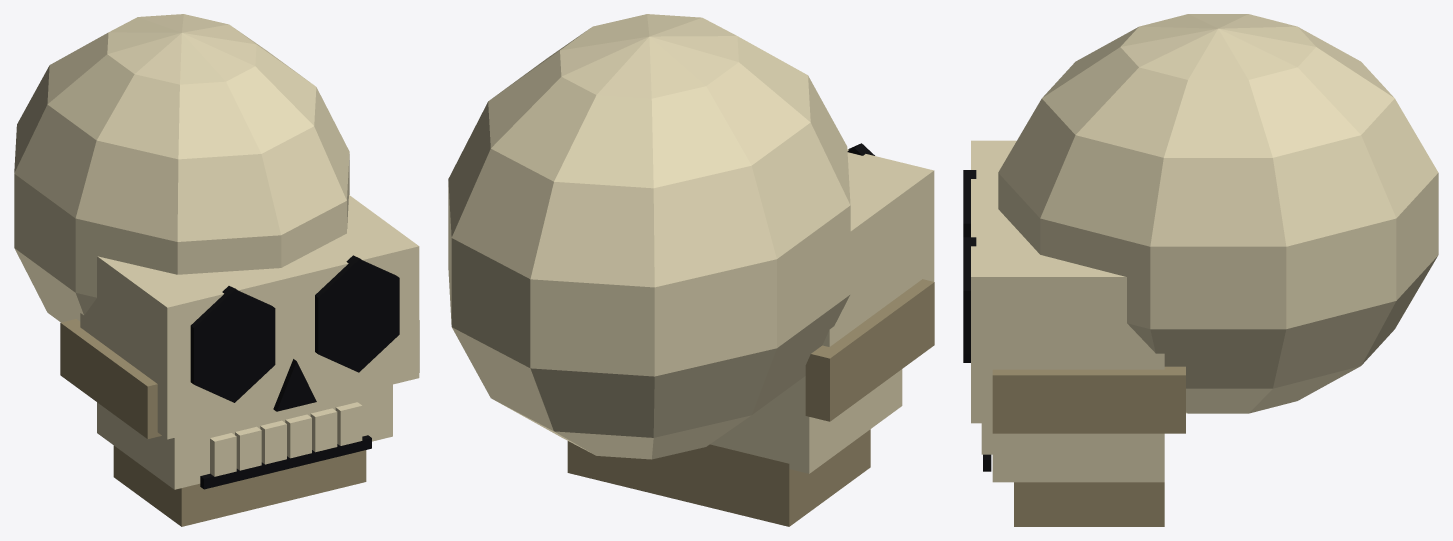
Rendered from SM_Skull.glb.
3 renders of one model, left to right at view 1: azimuth 30°, elevation 25°; view 2: azimuth 150°, elevation 25°; view 3: azimuth 270°, elevation 25°, orthographic. The views are drawn at different scales.
Visible parts, largest first — view 1: SM_Skull; view 2: SM_Skull; view 3: SM_Skull.
Part boxes in pixels (bbox=[...]): SM_Skull: bbox=[14, 14, 419, 526]; SM_Skull: bbox=[448, 14, 934, 526]; SM_Skull: bbox=[963, 14, 1438, 526].
Bounding box in the file's own units: 0.1632 × 0.23 × 0.2209.
1 material, 1 textured.
